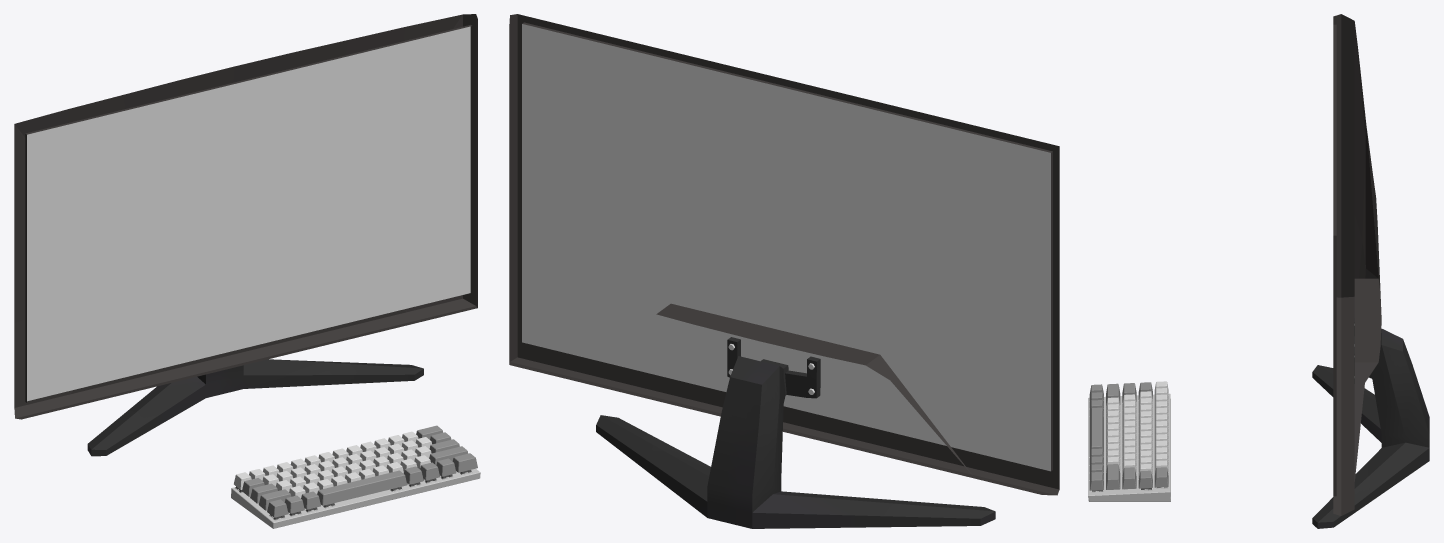
Rendered from computer.glb.
3 views of the same model, side by side, from view 1: azimuth 30°, elevation 25°; view 2: azimuth 150°, elevation 25°; view 3: azimuth 270°, elevation 25° (orthographic). The views are drawn at different scales.
Visible parts, largest first — view 1: Plano.001, Plano, plate_20, Cube.007_28; view 2: Plano.001, Plano; view 3: Plano.001, Plano, plate_20, Cube.007_28.
Part boxes in pixels (left/top/right/bottom): Plano.001: left=14, top=14, right=477, bottom=419; Plano: left=87, top=359, right=423, bottom=456; plate_20: left=231, top=468, right=480, bottom=528; Cube.007_28: left=317, top=470, right=407, bottom=505; Plano.001: left=509, top=14, right=1059, bottom=495; Plano: left=596, top=337, right=995, bottom=528; Plano.001: left=1333, top=14, right=1381, bottom=515; Plano: left=1312, top=318, right=1429, bottom=528; plate_20: left=1088, top=393, right=1170, bottom=501; Cube.007_28: left=1089, top=407, right=1103, bottom=456.
Size of the model in its own units: 9.48 by 6.66 by 6.26.
Materials: 8 (1 with a texture image).
